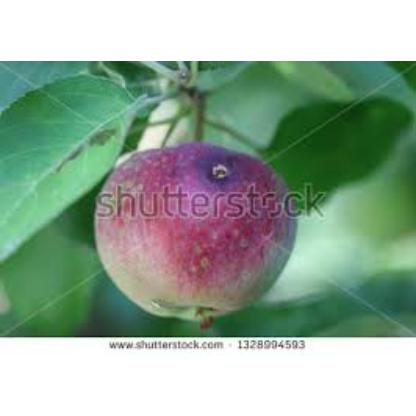damaged_apple: (97, 144, 297, 316)
